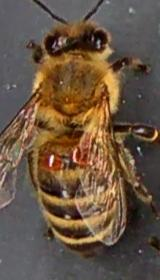varroa_mite: (37, 148, 63, 180), (66, 143, 92, 168)
